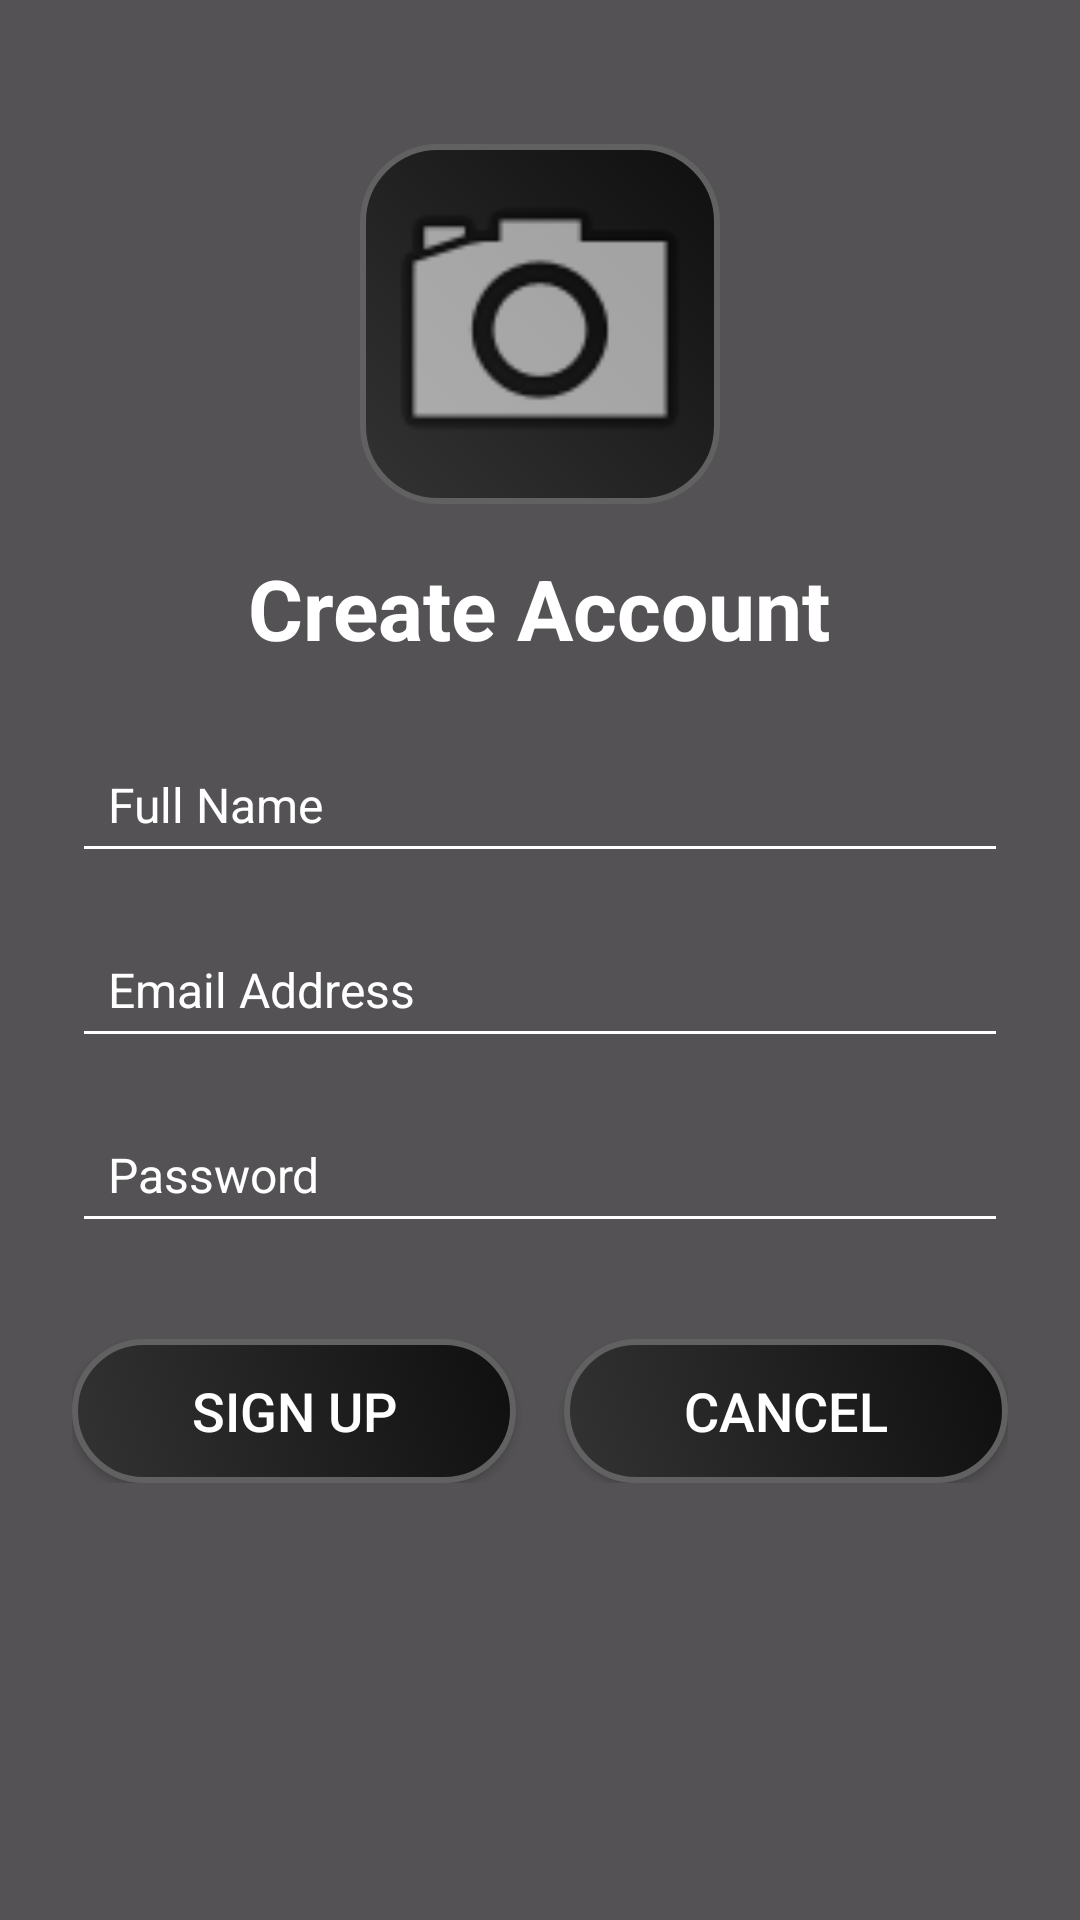

Named icons in this screenshot (1080px×1920px) and their centers, (x,y):
Profile Picture: (540,324)
